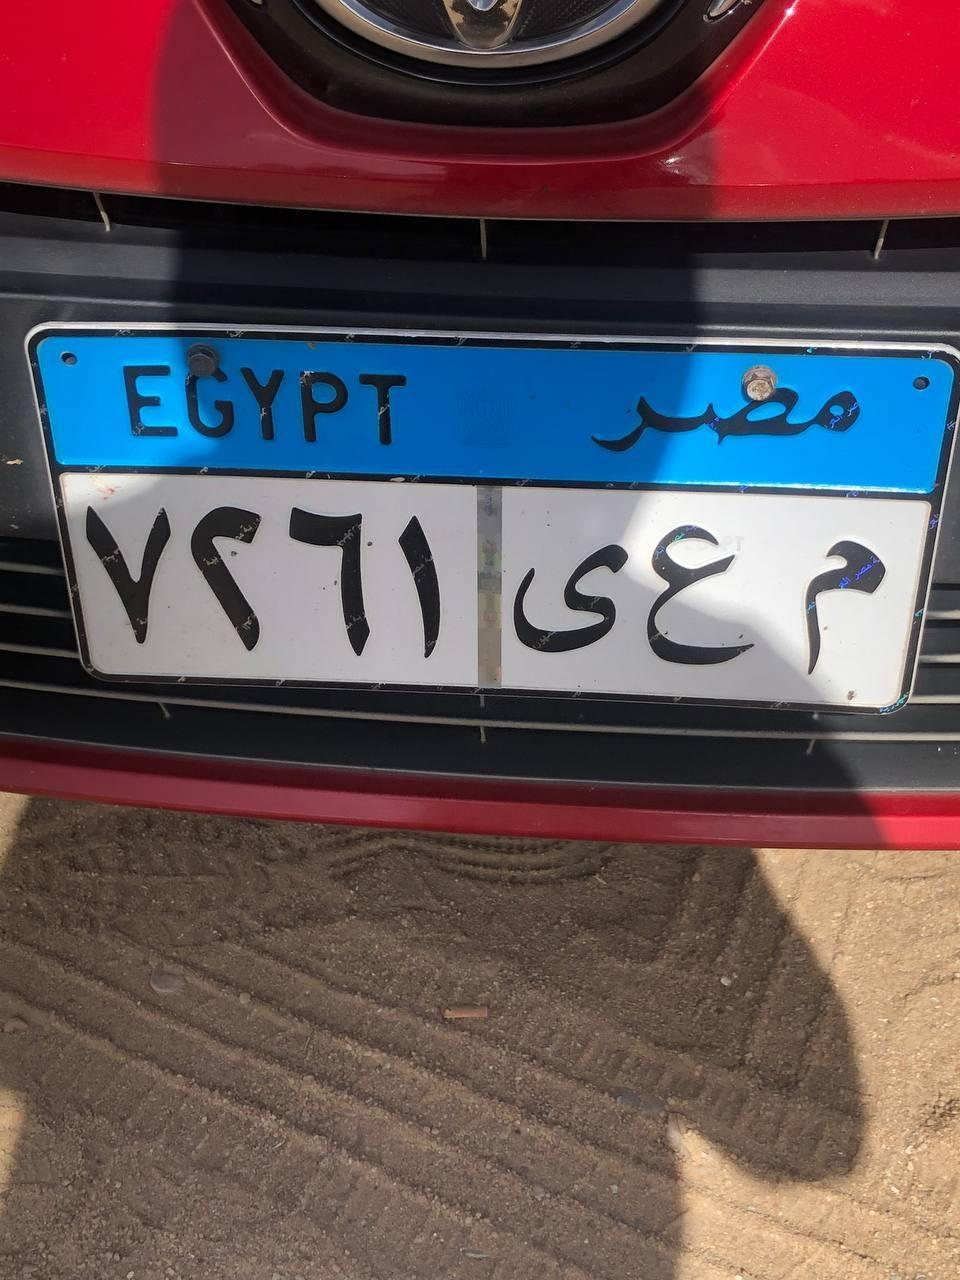1: (378, 516, 461, 670)
2: (180, 488, 272, 652)
6: (280, 498, 386, 664)
7: (76, 488, 188, 656)
Een: (630, 488, 762, 670)
License Plate: (0, 316, 960, 702)
Meem: (793, 526, 873, 686)
Yeeh: (518, 533, 631, 668)
